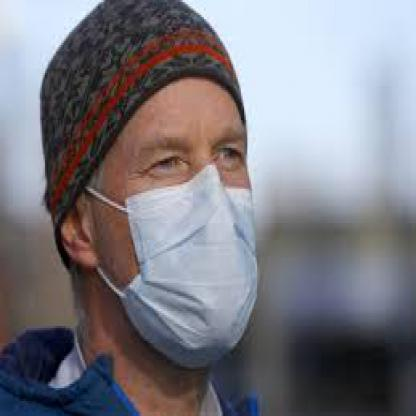Wearing_Mask: (77, 26, 265, 388)
